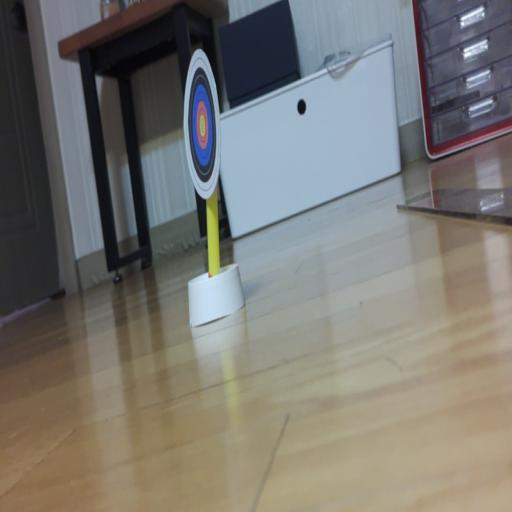target: (183, 49, 220, 198)
